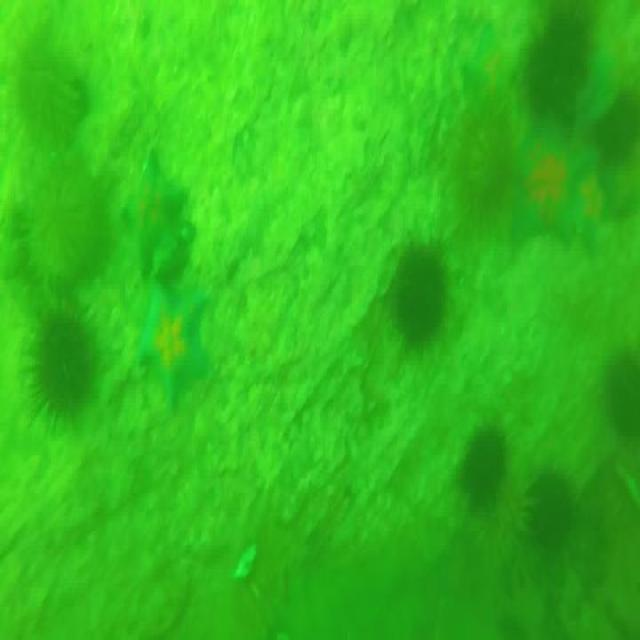echinus: (502, 131, 601, 259), (24, 298, 101, 446), (133, 286, 220, 405), (126, 150, 188, 302), (525, 0, 592, 128), (387, 251, 452, 354), (525, 472, 591, 562), (457, 436, 511, 512), (604, 344, 639, 450)
